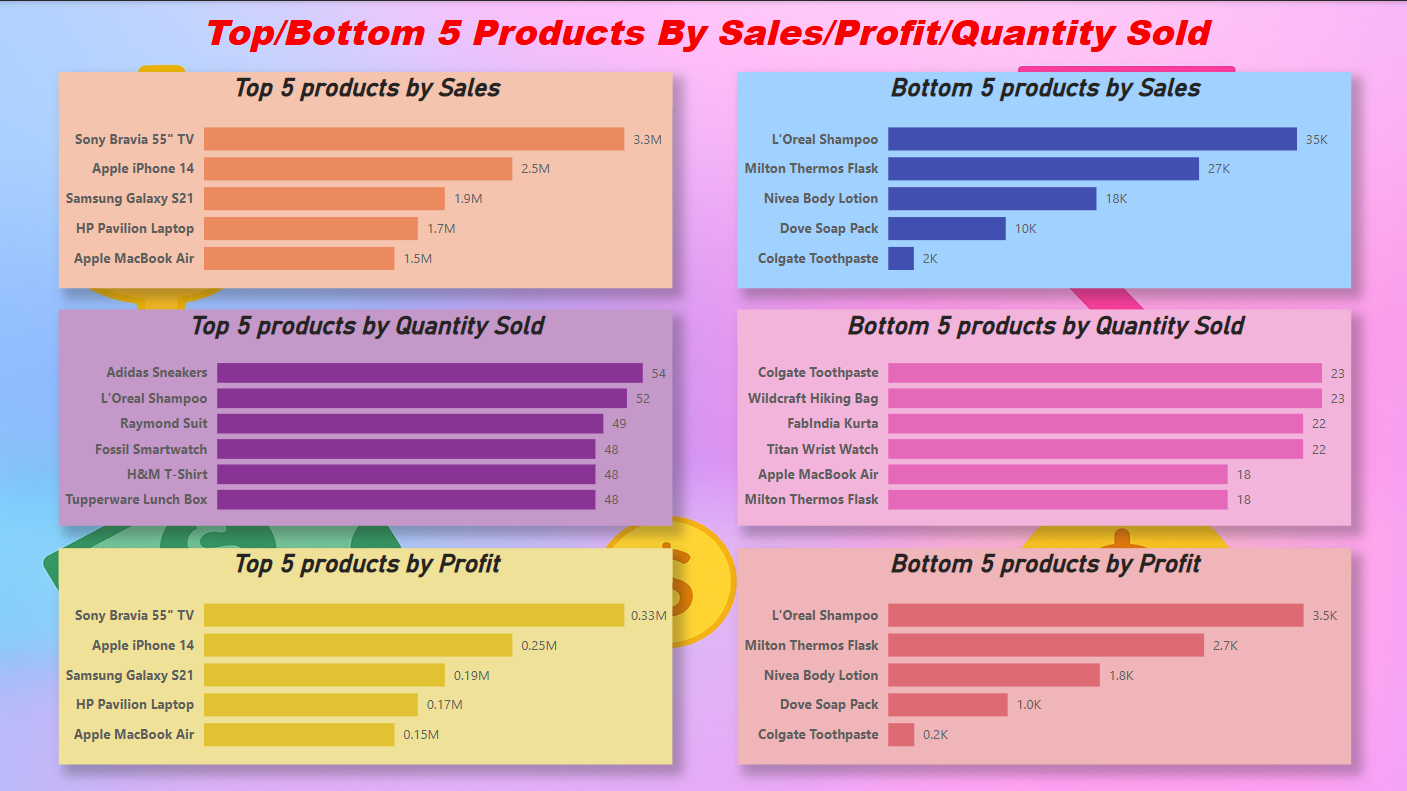

What the dashboard file says about the page in this screenshot:
{"tool":"powerbi","page":{"name":"Top/Bottom 5 Analysis","canvas":[1280,720],"ordinal":1},"visuals":[{"type":"barChart","title":"Top 5 products by Sales","fields":{"Category":["Dim Product.Product Name"],"Y":["Sum(Fact Table.Net Sales)"]},"box":[53.5,64.5,557.1,196.2],"z":0},{"type":"barChart","title":"Bottom 5 products by Sales","fields":{"Category":["Dim Product.Product Name"],"Y":["Sum(Fact Table.Net Sales)"]},"box":[669.6,64.5,557.1,196.2],"z":1000},{"type":"barChart","title":"Top 5 products by Quantity Sold","fields":{"Category":["Dim Product.Product Name"],"Y":["Sum(Fact Table.Units Sold)"]},"box":[53.5,279.9,557.1,196.2],"z":2000},{"type":"barChart","title":"Bottom 5 products by Quantity Sold","fields":{"Category":["Dim Product.Product Name"],"Y":["Sum(Fact Table.Units Sold)"]},"box":[669.6,279.9,557.1,196.2],"z":3000},{"type":"barChart","title":"Top 5 products by Profit","fields":{"Category":["Dim Product.Product Name"],"Y":["Sum(Fact Table.Profit)"]},"box":[53.5,496.7,557.1,196.2],"z":4000},{"type":"barChart","title":"Bottom 5 products by Profit","fields":{"Category":["Dim Product.Product Name"],"Y":["Sum(Fact Table.Profit)"]},"box":[669.6,496.7,557.1,196.2],"z":5000},{"type":"textbox","box":[0,0,1280.3,64.5],"z":6000}]}

Visuals, with their boxes in screenshot pixels (x1, y1, x2, y2), scaled from the page's 1280x720 canvas onto the 1407x791 screenshot:
"Top 5 products by Sales" barChart: (x1=59, y1=71, x2=671, y2=286)
"Bottom 5 products by Sales" barChart: (x1=736, y1=71, x2=1348, y2=286)
"Top 5 products by Quantity Sold" barChart: (x1=59, y1=308, x2=671, y2=523)
"Bottom 5 products by Quantity Sold" barChart: (x1=736, y1=308, x2=1348, y2=523)
"Top 5 products by Profit" barChart: (x1=59, y1=546, x2=671, y2=761)
"Bottom 5 products by Profit" barChart: (x1=736, y1=546, x2=1348, y2=761)
textbox: (x1=0, y1=0, x2=1406, y2=71)
